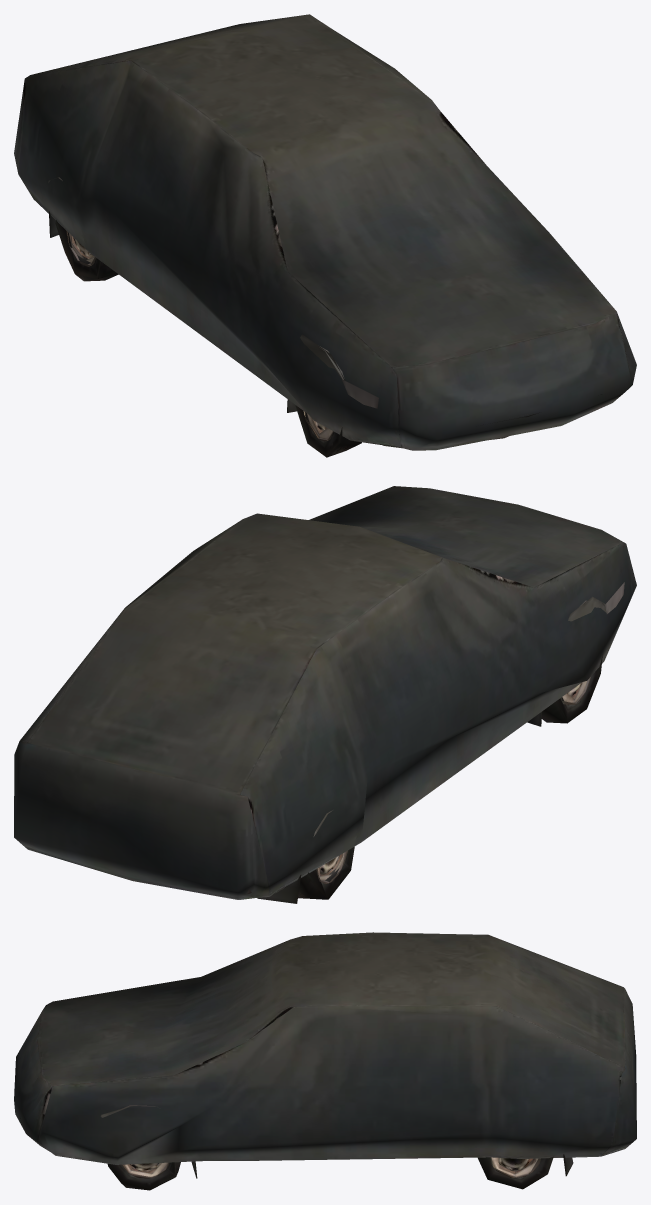
The model's file is covered_car.glb.
3 views of the same model, one above another, from view 1: azimuth 30°, elevation 25°; view 2: azimuth 150°, elevation 25°; view 3: azimuth 270°, elevation 25° (orthographic). The views are drawn at different scales.
Parts seen in each view (by area): view 1: covered_car_wheel_01; view 2: covered_car_wheel_01; view 3: covered_car_wheel_01.
Part boxes in pixels (x1=…): covered_car_wheel_01: x1=14, y1=14, x2=636, y2=457; covered_car_wheel_01: x1=14, y1=486, x2=636, y2=903; covered_car_wheel_01: x1=14, y1=932, x2=636, y2=1190.
Bounding box in the file's own units: 1.79 × 1.41 × 4.34.
1 material, 1 textured.
